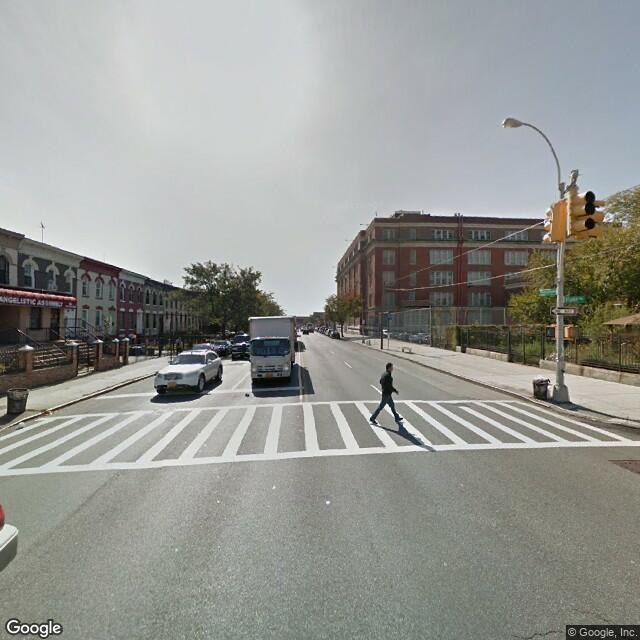litter: (14, 419, 33, 427)
